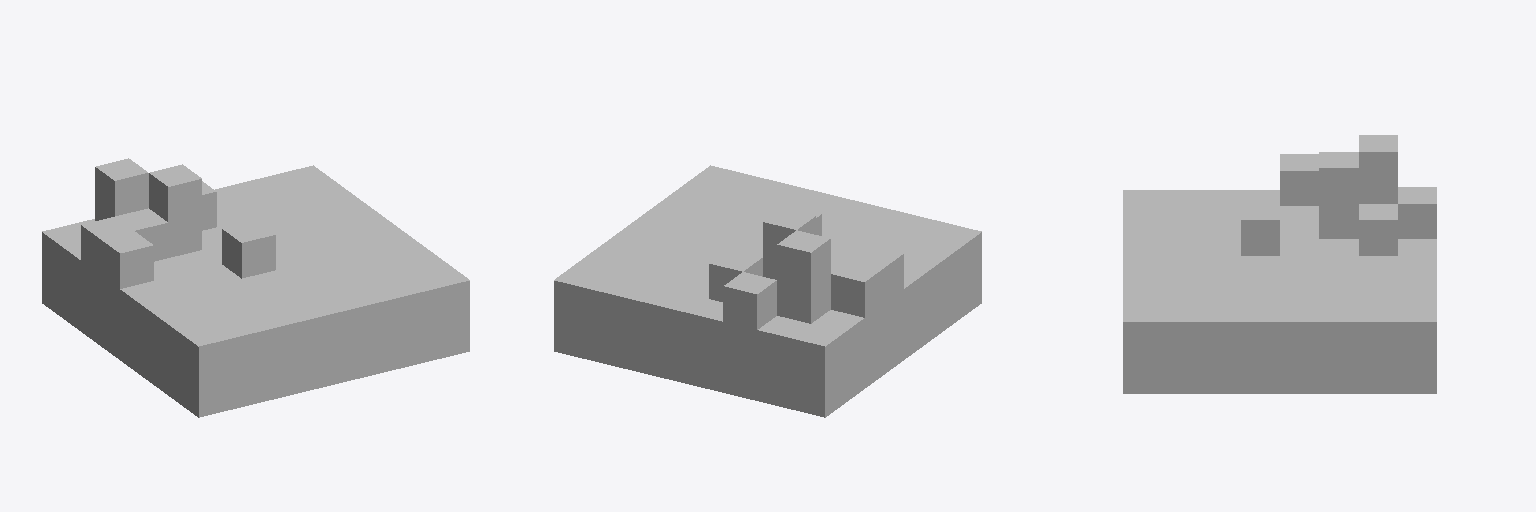
File: seaNearGreenWithBush.obj
The picture shows the model from 3 angles: view 1: azimuth 30°, elevation 25°; view 2: azimuth 150°, elevation 25°; view 3: azimuth 270°, elevation 25°; orthographic projection.
Visible parts, largest first — view 1: object 1; view 2: object 1; view 3: object 1.
Part boxes in pixels (x1,y1,x2,y2): object 1: (42,158,469,417); object 1: (554,165,981,417); object 1: (1123,135,1436,393).
Size of the model in its own units: 0.8 by 0.4 by 0.8.